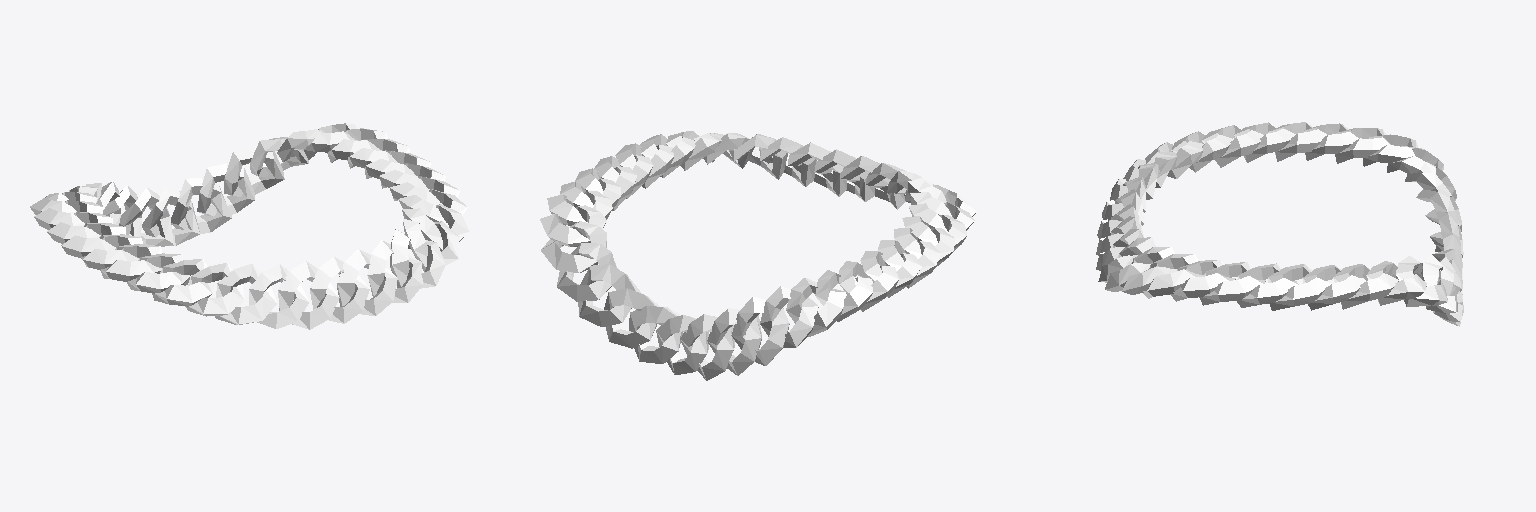
The model's file is joshynecklace.obj.
3 renders of one model, left to right at view 1: azimuth 30°, elevation 25°; view 2: azimuth 150°, elevation 25°; view 3: azimuth 270°, elevation 25°, orthographic.
Parts seen in each view (by area): view 1: Sub2joshh1; view 2: Sub2joshh1; view 3: Sub2joshh1.
Part boxes in pixels (left/top/right/bottom): Sub2joshh1: left=30, top=123, right=469, bottom=329; Sub2joshh1: left=540, top=131, right=976, bottom=380; Sub2joshh1: left=1096, top=122, right=1463, bottom=326.
Bounding box in the file's own units: 1.4 × 0.4147 × 1.23.